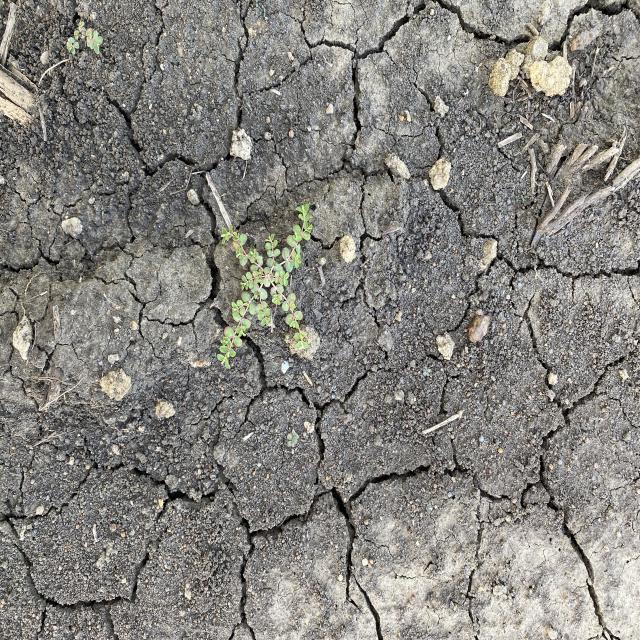SpottedSpurge: (216, 202, 315, 370), (63, 21, 104, 56)
